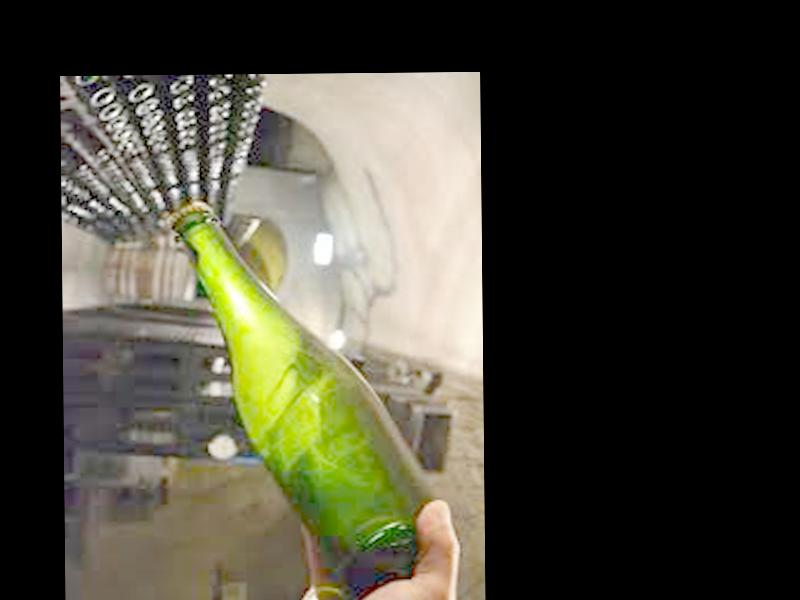Beer: (162, 198, 446, 596)
